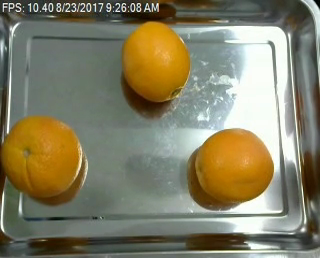Orange: (1, 116, 82, 198), (195, 127, 275, 204), (121, 21, 192, 102)
